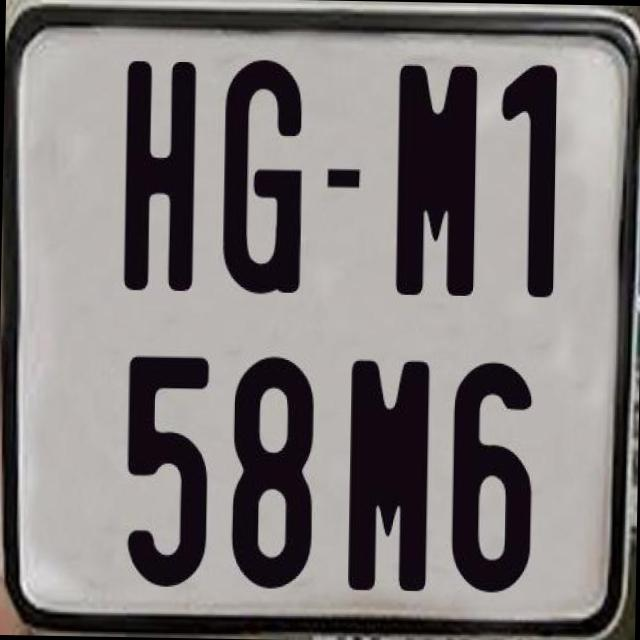1: (496, 64, 558, 306)
5: (120, 350, 210, 586)
6: (448, 356, 536, 594)
8: (226, 355, 314, 593)
G: (219, 54, 309, 294)
H: (120, 57, 194, 295)
M: (346, 354, 430, 594), (393, 59, 475, 291)
